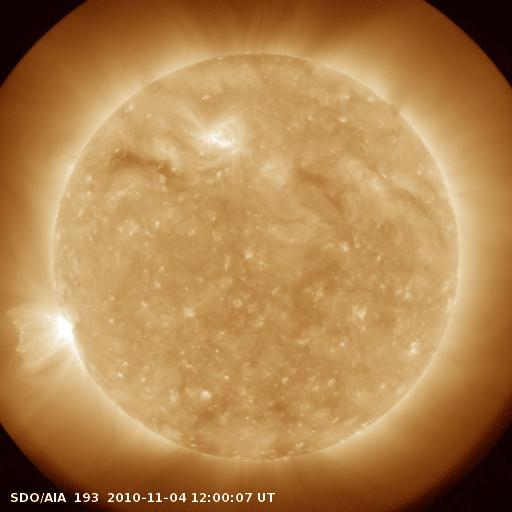coronal_hole: (106, 145, 184, 184)
